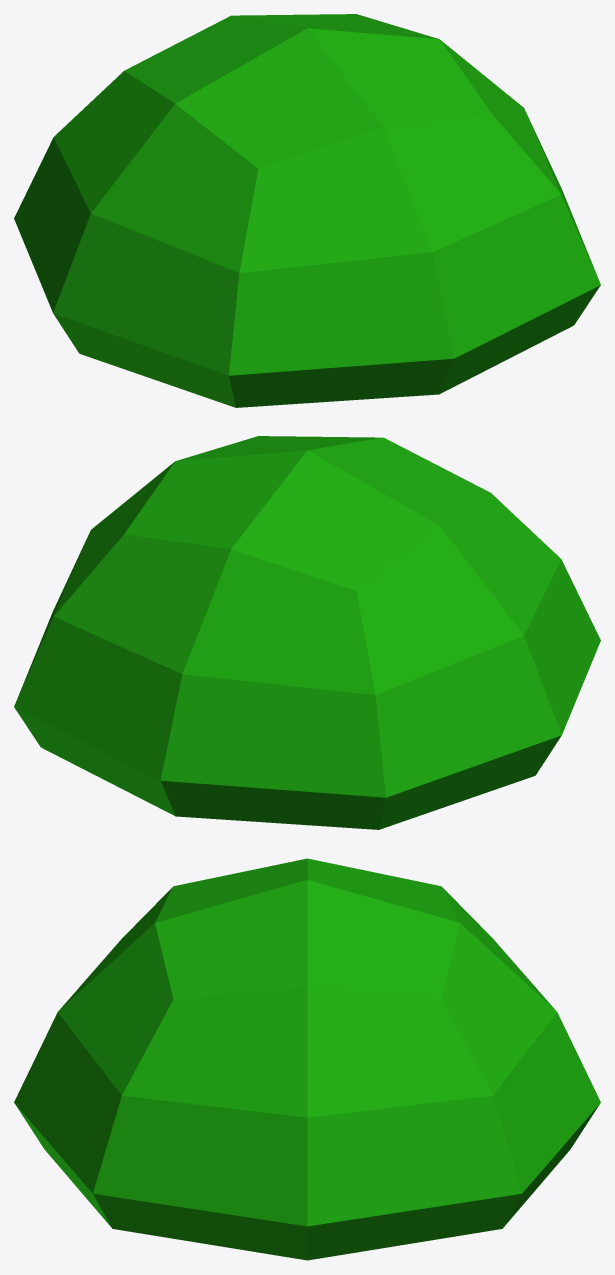
Rendered from Bush1.fbx.
The picture shows the model from 3 angles, top to bottom: view 1: azimuth 30°, elevation 25°; view 2: azimuth 150°, elevation 25°; view 3: azimuth 270°, elevation 25°; orthographic projection.
Visible parts, largest first — view 1: Cube.001; view 2: Cube.001; view 3: Cube.001.
Part boxes in pixels (<box>): Cube.001: <box>14,14,600,407</box>; Cube.001: <box>14,436,600,829</box>; Cube.001: <box>14,858,600,1260</box>.
Size of the model in its own units: 1.89 by 0.9598 by 1.89.
